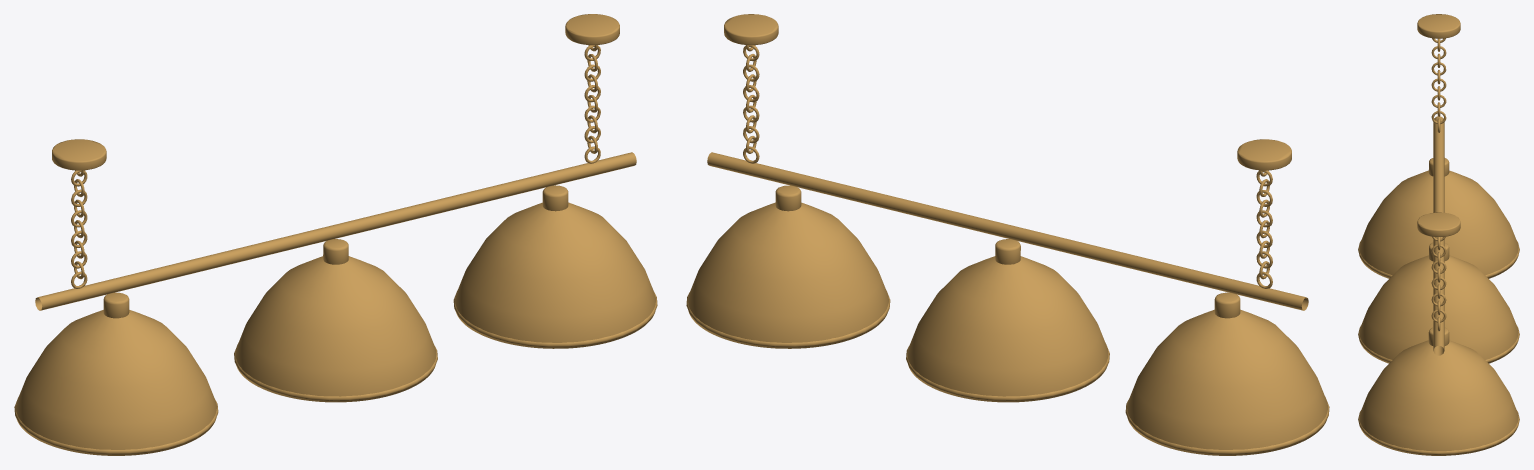
Rendered from heritage-lamp.glb.
3 renders of one model, left to right at view 1: azimuth 30°, elevation 25°; view 2: azimuth 150°, elevation 25°; view 3: azimuth 270°, elevation 25°, orthographic. The views are drawn at different scales.
Parts seen in each view (by area): view 1: heritage-lamp; view 2: heritage-lamp; view 3: heritage-lamp.
Boxes of the visible parts, left/top/right/bottom form: heritage-lamp: left=14, top=14, right=657, bottom=455; heritage-lamp: left=686, top=14, right=1329, bottom=455; heritage-lamp: left=1358, top=14, right=1519, bottom=455.
Bounding box in the file's own units: 1.82 × 0.77 × 0.524.
